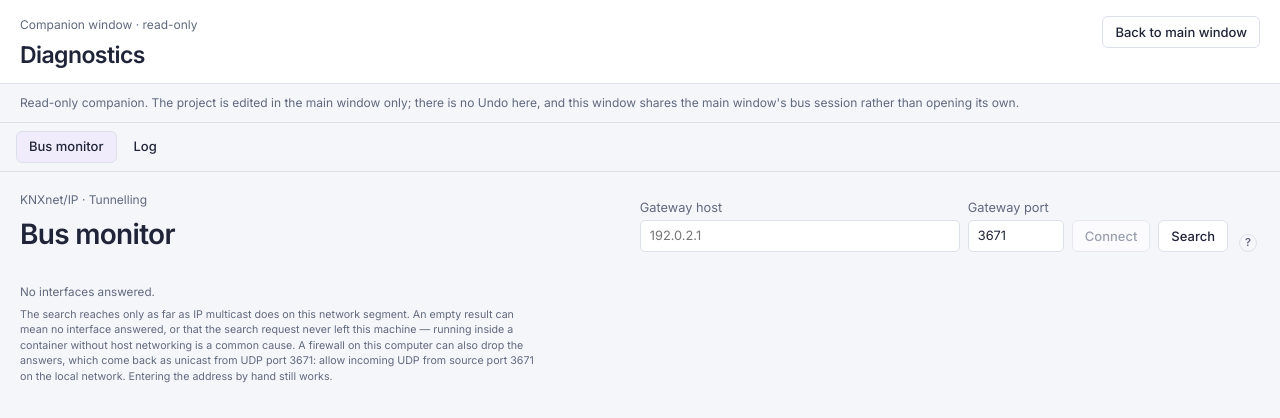
Scenario: one editing workspace › switches to the session log without ever offering a save or an import
Click the button "Log" at (145, 146), box left=120, top=130, right=170, bottom=162
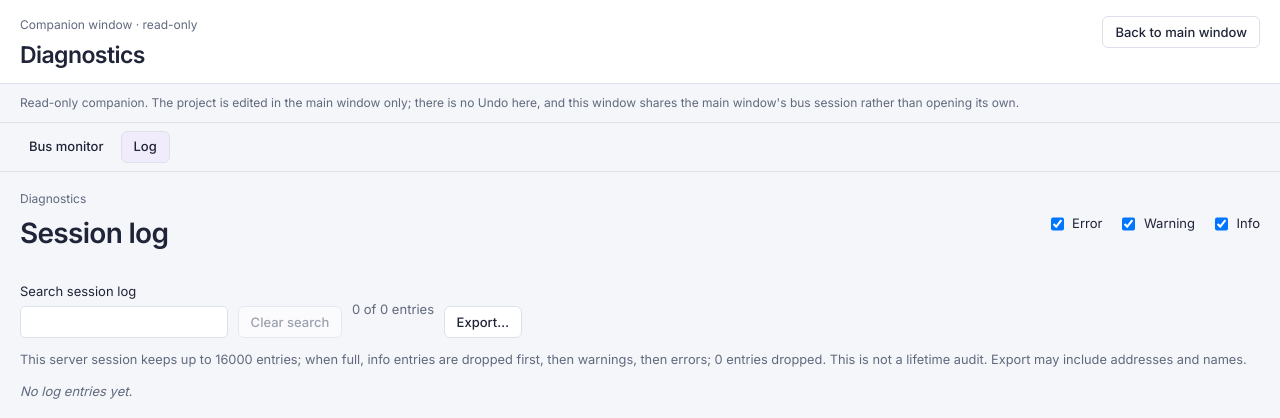
Now the element with class "log-panel" is shown, box left=20, top=190, right=1260, bottom=402
